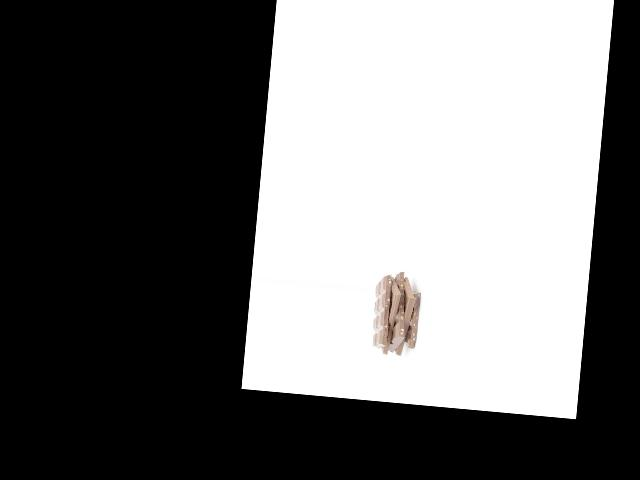chocolate: (388, 276, 426, 356)
